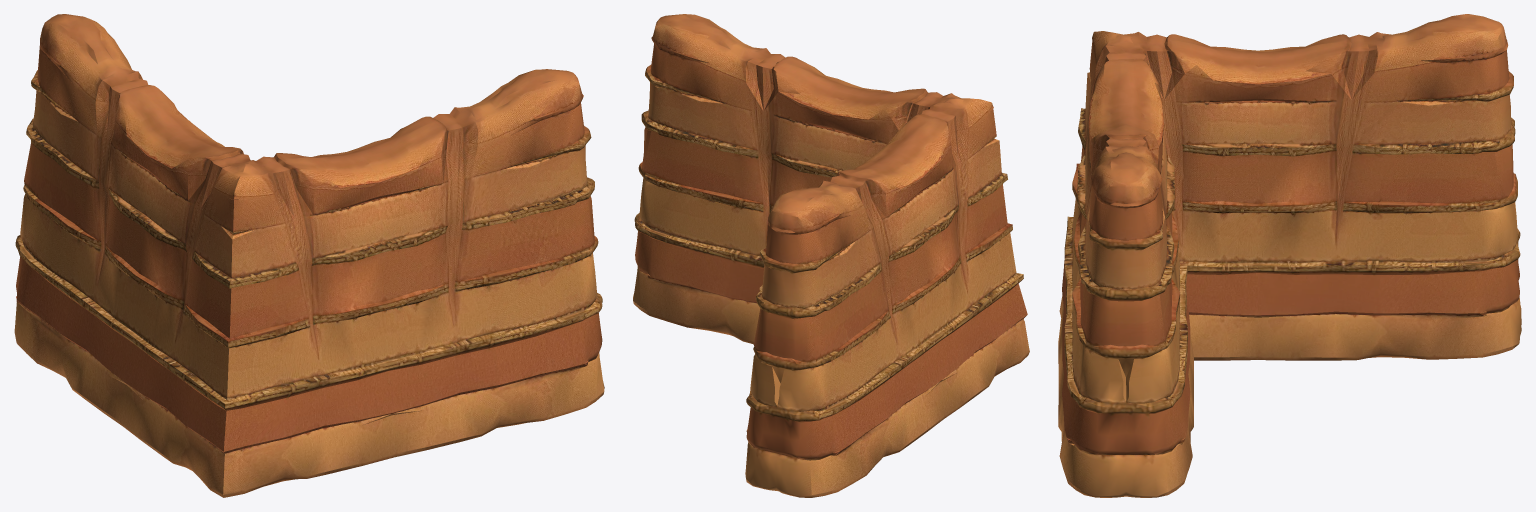
The model's file is SM_Tripo_DesertHanWallCorner.glb.
3 views of the same model, side by side, from view 1: azimuth 30°, elevation 25°; view 2: azimuth 150°, elevation 25°; view 3: azimuth 270°, elevation 25° (orthographic). The views are drawn at different scales.
Parts seen in each view (by area): view 1: SM_Tripo_DesertHanWallCorner_LOD0; view 2: SM_Tripo_DesertHanWallCorner_LOD0; view 3: SM_Tripo_DesertHanWallCorner_LOD0.
Boxes of the visible parts, x1=… form: SM_Tripo_DesertHanWallCorner_LOD0: x1=14, y1=14, x2=604, y2=497; SM_Tripo_DesertHanWallCorner_LOD0: x1=633, y1=14, x2=1029, y2=497; SM_Tripo_DesertHanWallCorner_LOD0: x1=1058, y1=14, x2=1521, y2=497.
Size of the model in its own units: 4.69 by 3.5 by 4.69.
1 material, 1 textured.
